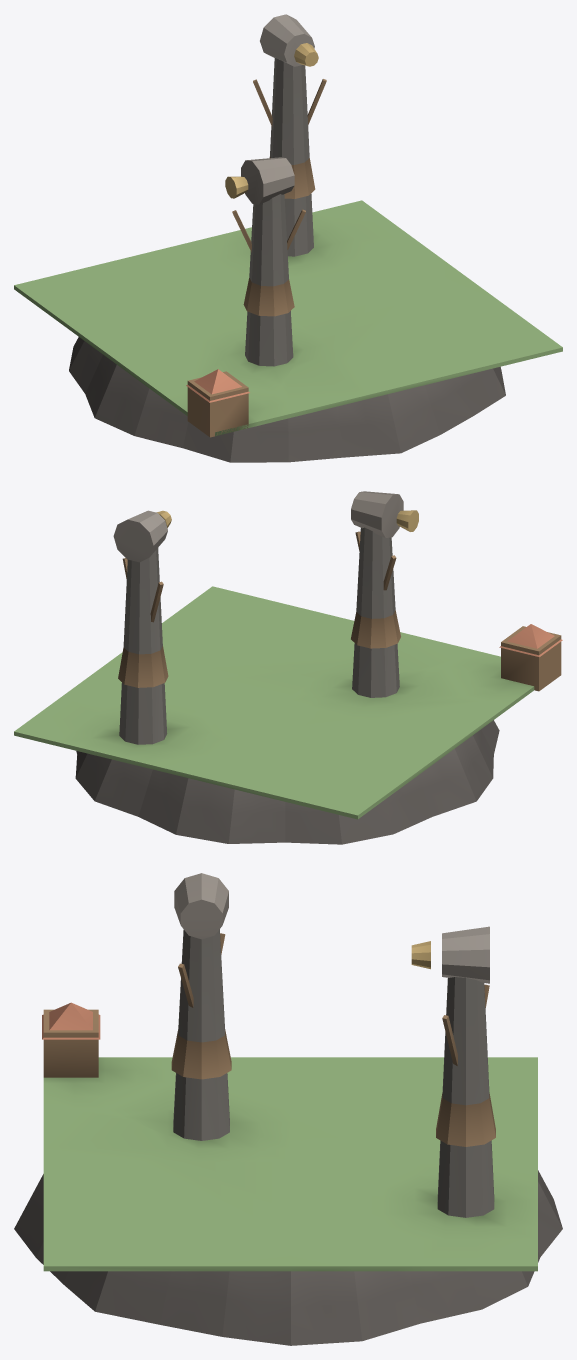
The model's file is 04_wind_isle.glb.
3 views of the same model, one above another, from view 1: azimuth 30°, elevation 25°; view 2: azimuth 150°, elevation 25°; view 3: azimuth 270°, elevation 25° (orthographic). The views are drawn at different scales.
Parts seen in each view (by area): view 1: wind_isle_grass, wind_isle_rock, wind_isle_stone, wind_isle_wood, wind_isle_envelopedark, wind_isle_brass_nocol, wind_isle_rooftile_nocol; view 2: wind_isle_grass, wind_isle_rock, wind_isle_stone, wind_isle_wood, wind_isle_envelopedark, wind_isle_rooftile_nocol, wind_isle_brass_nocol; view 3: wind_isle_grass, wind_isle_rock, wind_isle_stone, wind_isle_wood, wind_isle_envelopedark, wind_isle_rooftile_nocol.
Boxes of the visible parts, box(x1,y1,x2,y2) form: wind_isle_grass: box(14, 200, 562, 436); wind_isle_rock: box(69, 337, 505, 462); wind_isle_stone: box(245, 58, 313, 366); wind_isle_wood: box(187, 79, 326, 437); wind_isle_envelopedark: box(241, 14, 314, 204); wind_isle_brass_nocol: box(225, 43, 318, 198); wind_isle_rooftile_nocol: box(186, 369, 249, 402); wind_isle_grass: box(14, 586, 534, 819); wind_isle_rock: box(75, 720, 499, 844); wind_isle_stone: box(119, 527, 399, 744); wind_isle_wood: box(118, 531, 561, 691); wind_isle_envelopedark: box(113, 491, 403, 562); wind_isle_rooftile_nocol: box(499, 624, 562, 657); wind_isle_brass_nocol: box(156, 510, 418, 531); wind_isle_grass: box(43, 1057, 537, 1271); wind_isle_rock: box(14, 1170, 562, 1345); wind_isle_stone: box(173, 929, 494, 1217); wind_isle_wood: box(43, 933, 495, 1146); wind_isle_envelopedark: box(174, 873, 489, 983); wind_isle_rooftile_nocol: box(42, 1002, 100, 1039).
Bounding box in the file's own units: 80.41 × 54.99 × 79.97.
